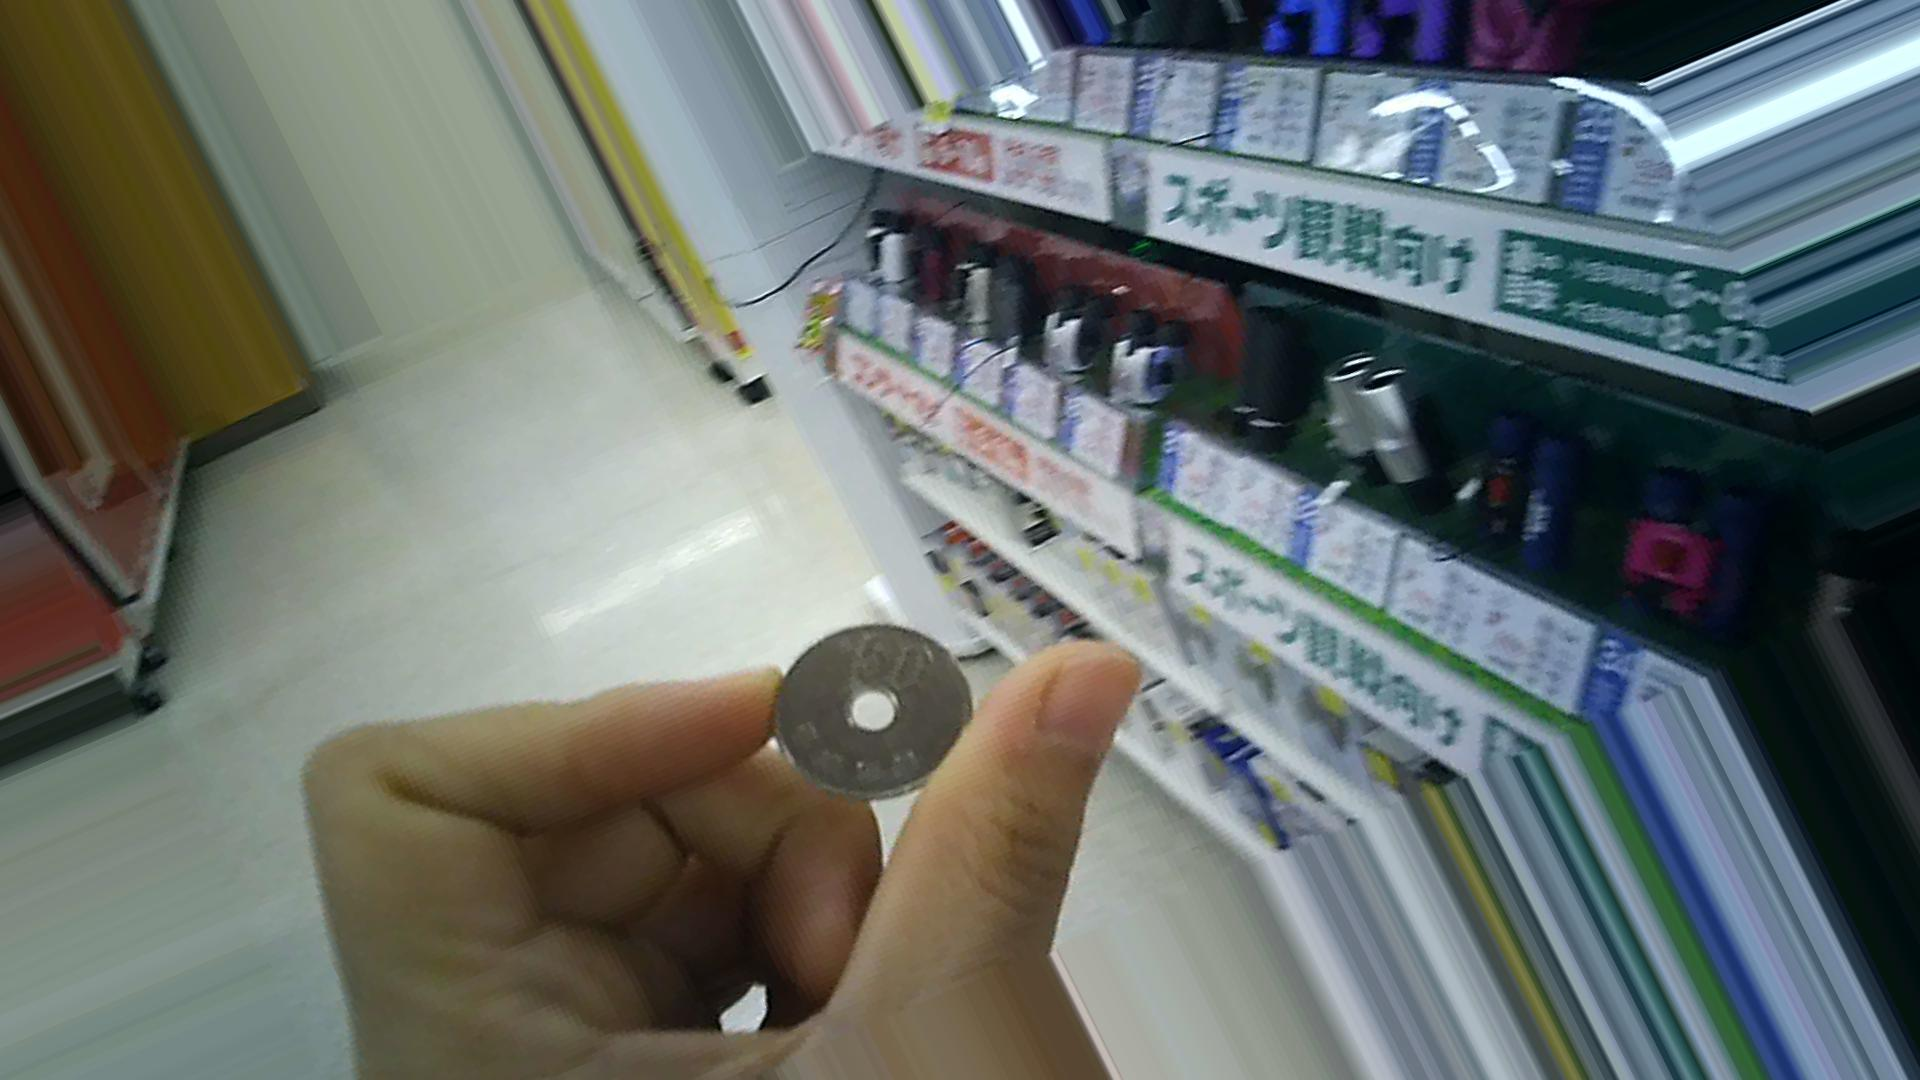50 Yen: (752, 624, 971, 814)
